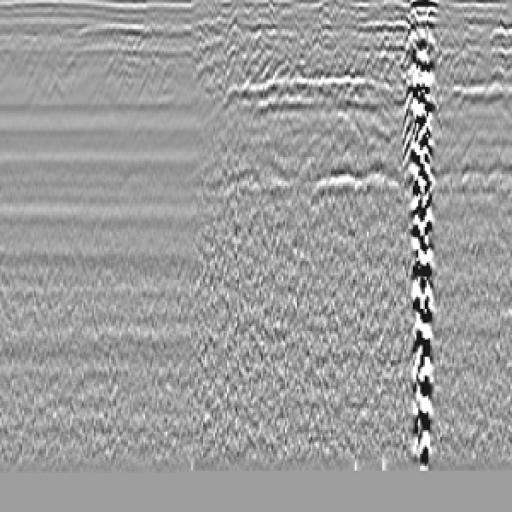non-metallic: (402, 1, 443, 468)
